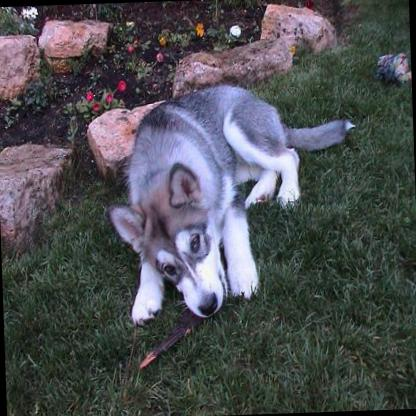malamute: (102, 81, 364, 322)
